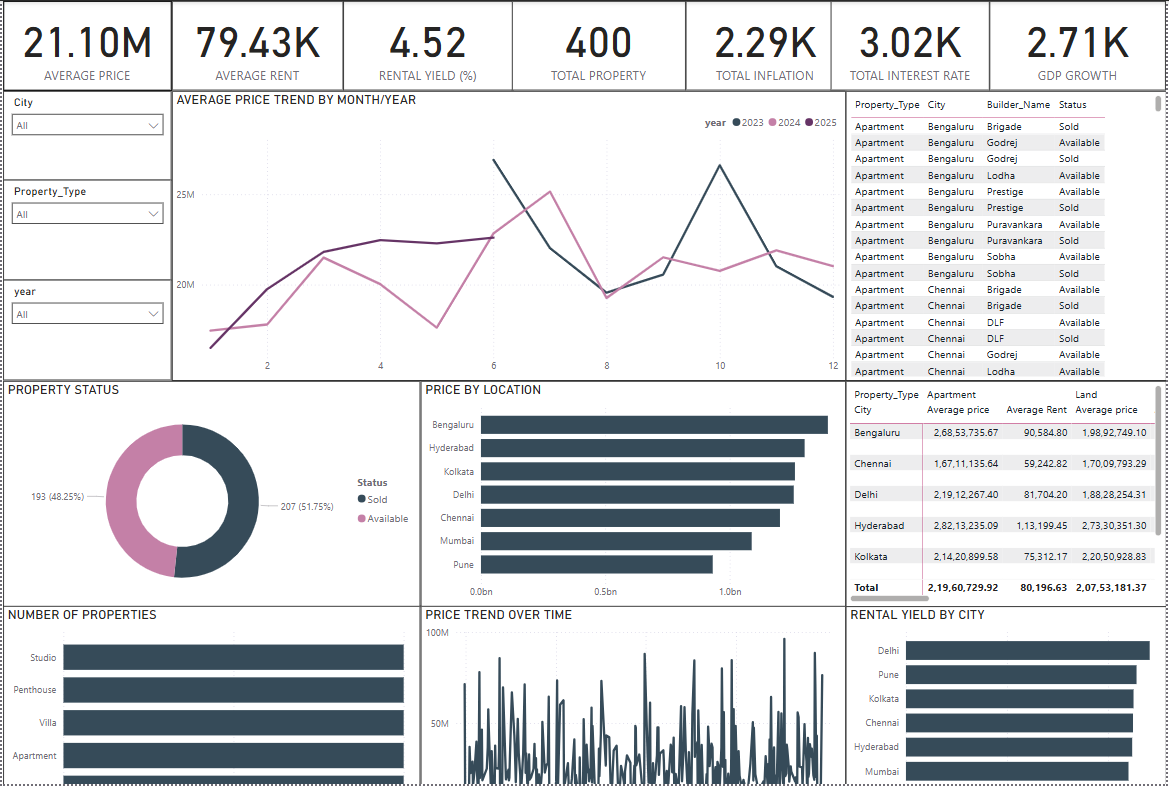

Layout of this report page (visuals, bound fields, positions):
{"tool":"powerbi","page":{"name":"Page 1","canvas":[1500,1080],"ordinal":0},"visuals":[{"type":"card","fields":{"Values":["Real_Estate_Market_Trends_Dataset.Average price"]},"box":[1.7,0,217.1,115.4],"z":0},{"type":"card","fields":{"Values":["Real_Estate_Market_Trends_Dataset.Average Rent"]},"box":[218.8,0,220.5,115.4],"z":1000},{"type":"card","fields":{"Values":["Real_Estate_Market_Trends_Dataset.Rental Yield"]},"box":[439.4,0,218.8,115.4],"z":2000},{"type":"slicer","fields":{"Values":["Real_Estate_Market_Trends_Dataset.City"]},"box":[1.7,115.4,217.1,115.4],"z":3000},{"type":"slicer","fields":{"Values":["Real_Estate_Market_Trends_Dataset.Property_Type"]},"box":[1.7,230.9,217.1,129.2],"z":4000},{"type":"slicer","fields":{"Values":["Real_Estate_Market_Trends_Dataset.year"]},"box":[1.7,360.1,217.1,129.2],"z":5000},{"type":"lineChart","title":"AVERAGE PRICE TREND  BY MONTH/YEAR","fields":{"Y":["Real_Estate_Market_Trends_Dataset.Average price"],"Category":["Real_Estate_Market_Trends_Dataset.month"],"Series":["Real_Estate_Market_Trends_Dataset.year"]},"box":[218.8,115.4,868.4,373.9],"z":6000},{"type":"barChart","title":"PRICE BY LOCATION","fields":{"Category":["Real_Estate_Market_Trends_Dataset.City"],"Y":["Sum(Real_Estate_Market_Trends_Dataset.Sale_Price)"]},"box":[539.3,489.3,547.9,291.2],"z":7000},{"type":"tableEx","fields":{"Values":["Real_Estate_Market_Trends_Dataset.Property_Type","Real_Estate_Market_Trends_Dataset.City","Real_Estate_Market_Trends_Dataset.Builder_Name","Real_Estate_Market_Trends_Dataset.Status"]},"box":[1087.2,115.4,413.5,373.9],"z":8000},{"type":"donutChart","title":"PROPERTY STATUS","fields":{"Category":["Real_Estate_Market_Trends_Dataset.Status"],"Y":["CountNonNull(Real_Estate_Market_Trends_Dataset.Status)"]},"box":[1.7,489.3,537.6,291.2],"z":9000},{"type":"card","fields":{"Values":["CountNonNull(Real_Estate_Market_Trends_Dataset.Property_ID)"]},"box":[658.2,0,224,115.4],"z":10000},{"type":"card","fields":{"Values":["Sum(Real_Estate_Market_Trends_Dataset.Inflation)"]},"box":[882.2,0,205,115.4],"z":11000},{"type":"card","fields":{"Values":["Sum(Real_Estate_Market_Trends_Dataset.Interest_Rate)"]},"box":[1068.3,0,205,115.4],"z":12000},{"type":"card","fields":{"Values":["Sum(Real_Estate_Market_Trends_Dataset.GDP_Growth)"]},"box":[1273.3,0,227.4,115.4],"z":13000},{"type":"lineChart","title":"PRICE TREND OVER TIME","fields":{"Y":["Sum(Real_Estate_Market_Trends_Dataset.Sale_Price)"],"Category":["Real_Estate_Market_Trends_Dataset.Posting_Date"]},"box":[539.3,780.5,547.9,299.8],"z":14000},{"type":"barChart","title":"RENTAL YIELD BY CITY","fields":{"Y":["Real_Estate_Market_Trends_Dataset.Rental Yield"],"Category":["Real_Estate_Market_Trends_Dataset.City"]},"box":[1087.2,780.5,413.5,299.8],"z":15000},{"type":"hundredPercentStackedBarChart","title":"NUMBER OF PROPERTIES","fields":{"Category":["Real_Estate_Market_Trends_Dataset.Property_Type"],"Y":["CountNonNull(Real_Estate_Market_Trends_Dataset.Property_ID)"]},"box":[1.7,780.5,537.6,299.8],"z":16000},{"type":"pivotTable","fields":{"Columns":["Real_Estate_Market_Trends_Dataset.Property_Type"],"Values":["Real_Estate_Market_Trends_Dataset.Average price","Real_Estate_Market_Trends_Dataset.Average Rent"],"Rows":["Real_Estate_Market_Trends_Dataset.City"]},"box":[1087.2,489.3,413.5,291.2],"z":17000}]}

Visuals, with their boxes on the page's 1500x1080 design canvas (x1, y1, x2, y2). These are canvas units, not pixel positions in the 1169x786 screenshot, which may show the page scaled, cropped or inside an application window:
card - Real_Estate_Market_Trends_Dataset.Average price: pyautogui.locateOnScreen(2, 0, 219, 115)
card - Real_Estate_Market_Trends_Dataset.Average Rent: pyautogui.locateOnScreen(219, 0, 439, 115)
card - Real_Estate_Market_Trends_Dataset.Rental Yield: pyautogui.locateOnScreen(439, 0, 658, 115)
slicer - Real_Estate_Market_Trends_Dataset.City: pyautogui.locateOnScreen(2, 115, 219, 231)
slicer - Real_Estate_Market_Trends_Dataset.Property_Type: pyautogui.locateOnScreen(2, 231, 219, 360)
slicer - Real_Estate_Market_Trends_Dataset.year: pyautogui.locateOnScreen(2, 360, 219, 489)
"AVERAGE PRICE TREND  BY MONTH/YEAR" lineChart: pyautogui.locateOnScreen(219, 115, 1087, 489)
"PRICE BY LOCATION" barChart: pyautogui.locateOnScreen(539, 489, 1087, 780)
tableEx - Real_Estate_Market_Trends_Dataset.Property_Type x Real_Estate_Market_Trends_Dataset.City: pyautogui.locateOnScreen(1087, 115, 1501, 489)
"PROPERTY STATUS" donutChart: pyautogui.locateOnScreen(2, 489, 539, 780)
card - CountNonNull(Real_Estate_Market_Trends_Dataset.Property_ID): pyautogui.locateOnScreen(658, 0, 882, 115)
card - Sum(Real_Estate_Market_Trends_Dataset.Inflation): pyautogui.locateOnScreen(882, 0, 1087, 115)
card - Sum(Real_Estate_Market_Trends_Dataset.Interest_Rate): pyautogui.locateOnScreen(1068, 0, 1273, 115)
card - Sum(Real_Estate_Market_Trends_Dataset.GDP_Growth): pyautogui.locateOnScreen(1273, 0, 1501, 115)
"PRICE TREND OVER TIME" lineChart: pyautogui.locateOnScreen(539, 780, 1087, 1080)
"RENTAL YIELD BY CITY" barChart: pyautogui.locateOnScreen(1087, 780, 1501, 1080)
"NUMBER OF PROPERTIES" hundredPercentStackedBarChart: pyautogui.locateOnScreen(2, 780, 539, 1080)
pivotTable - Real_Estate_Market_Trends_Dataset.Property_Type x Real_Estate_Market_Trends_Dataset.Average price: pyautogui.locateOnScreen(1087, 489, 1501, 780)
